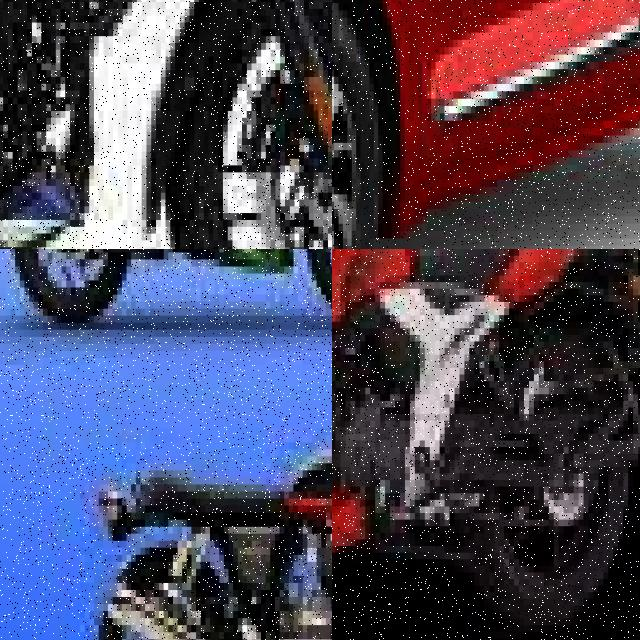bike: (332, 249, 640, 640), (0, 0, 332, 249), (94, 337, 332, 640), (0, 249, 332, 330)
car: (332, 0, 640, 249)
